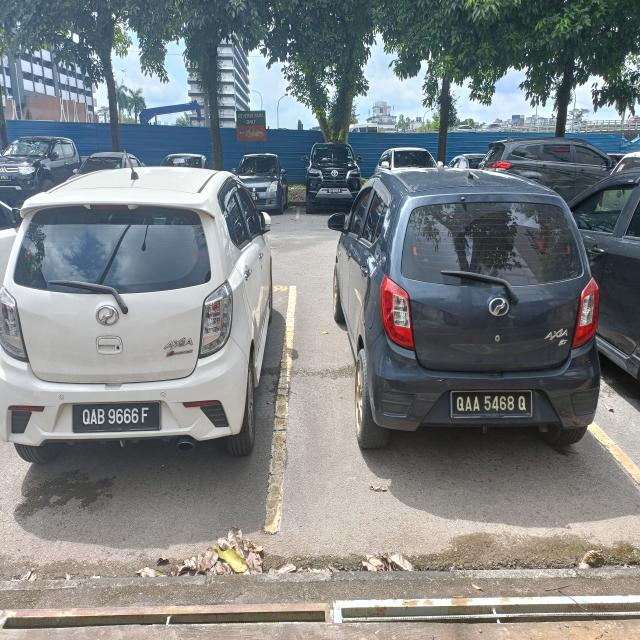PeroduaAxia: (0, 164, 274, 463)
